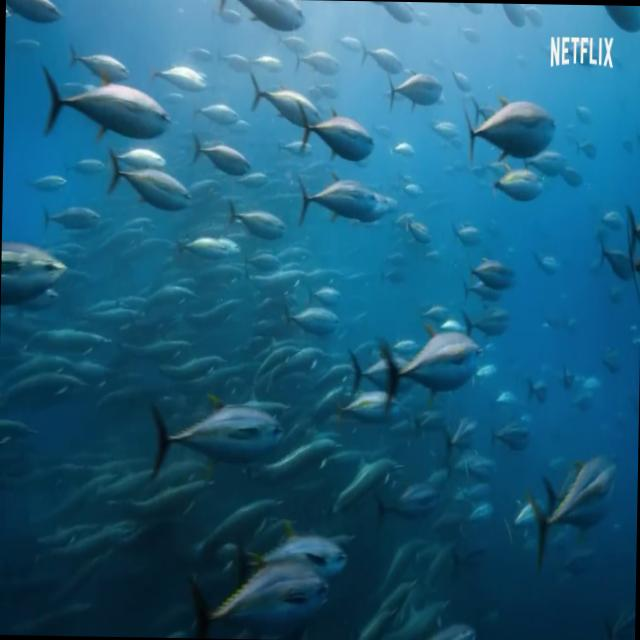fish: (143, 383, 291, 502), (26, 61, 180, 158), (184, 557, 338, 640), (384, 312, 484, 420), (527, 482, 633, 577), (101, 139, 197, 228), (283, 169, 389, 242), (287, 96, 383, 172), (460, 85, 562, 156), (236, 62, 326, 142), (235, 532, 349, 588), (0, 228, 84, 298), (369, 46, 446, 122), (338, 444, 410, 522), (188, 118, 256, 183), (220, 190, 280, 249), (350, 23, 408, 80), (502, 130, 572, 174), (282, 292, 346, 340), (492, 152, 548, 206), (229, 0, 312, 36), (334, 332, 385, 390), (176, 222, 246, 264), (151, 49, 207, 96), (464, 238, 516, 286), (489, 414, 541, 458), (5, 0, 64, 38), (443, 408, 482, 459), (427, 606, 482, 640), (402, 201, 436, 251), (530, 234, 562, 284), (614, 190, 640, 245), (449, 208, 482, 248)
